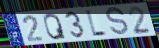2: (128, 6, 152, 36), (21, 14, 45, 43)
3: (65, 10, 86, 41)
L: (84, 9, 108, 39)
Q: (43, 11, 67, 41)
S: (105, 5, 129, 37)
